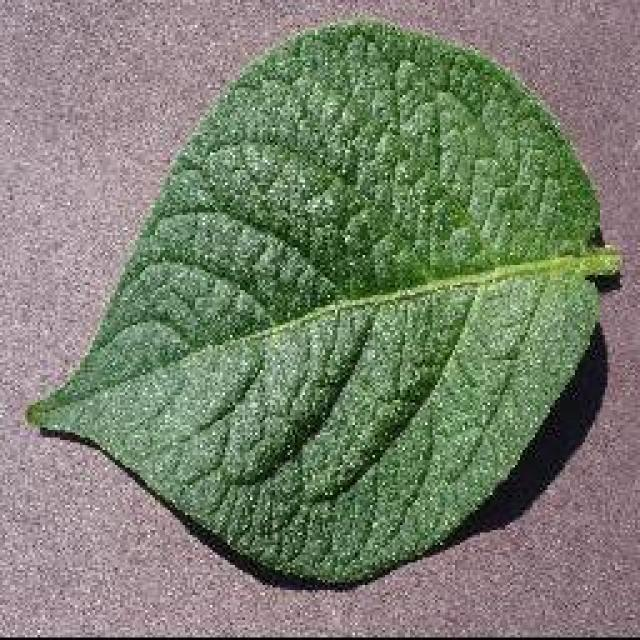Potato___healthy: (22, 14, 629, 585)
